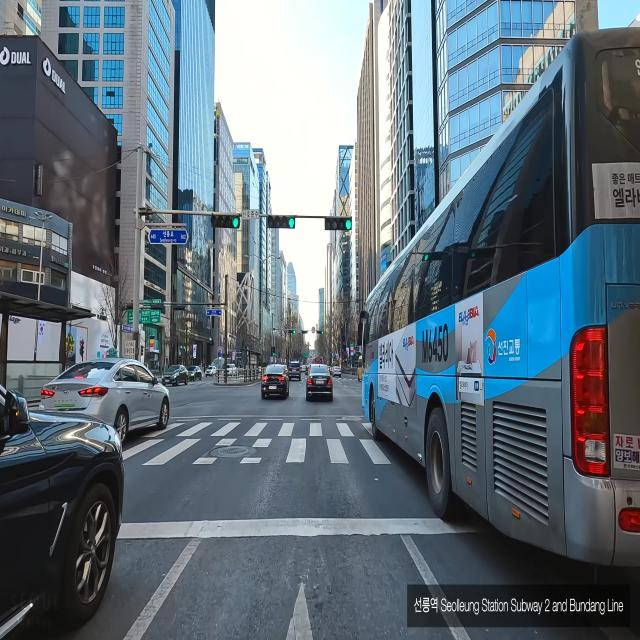Green Light: (288, 216, 295, 229), (232, 216, 239, 228), (345, 219, 352, 230), (322, 331, 324, 335), (294, 330, 296, 334), (306, 331, 308, 334)
